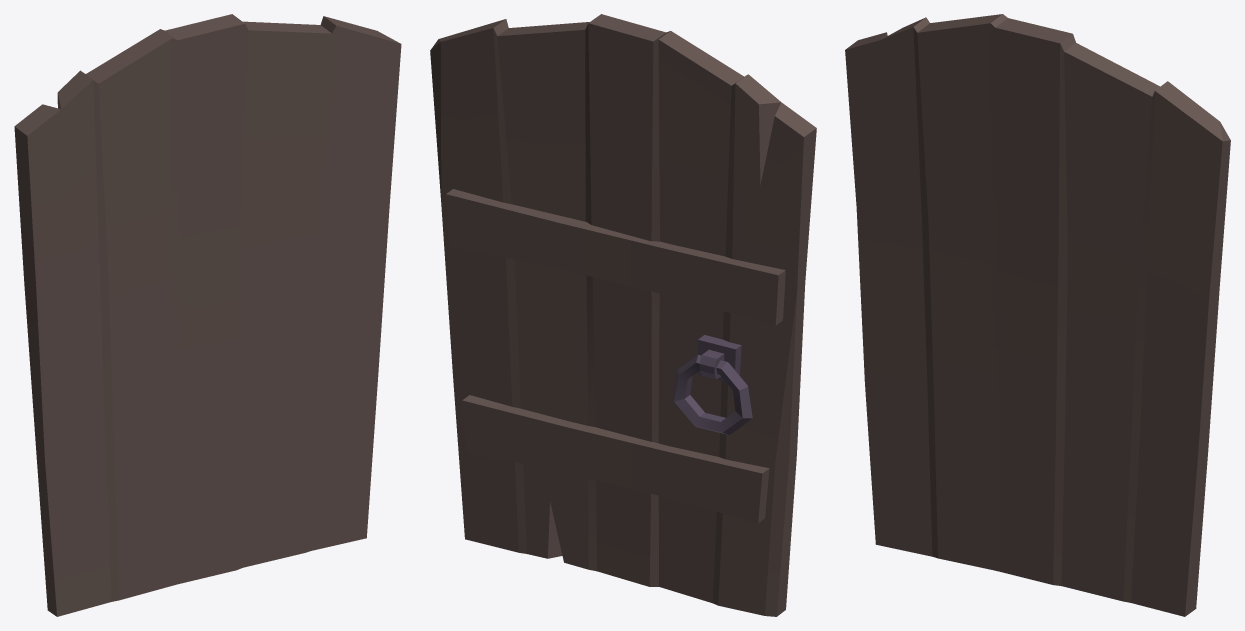
Rendered from DoorModel.fbx.
3 views of the same model, side by side, from view 1: azimuth 30°, elevation 25°; view 2: azimuth 150°, elevation 25°; view 3: azimuth 330°, elevation 25° (orthographic).
Visible parts, largest first — view 1: hut_door.003; view 2: hut_door.003, hut_door.002; view 3: hut_door.003.
Part boxes in pixels (x1=…): hut_door.003: x1=14, y1=14, x2=401, y2=616; hut_door.003: x1=430, y1=14, x2=816, y2=616; hut_door.002: x1=673, y1=335, x2=752, y2=435; hut_door.003: x1=845, y1=14, x2=1230, y2=616.
Bounding box in the file's own units: 130 × 182 × 17.09.
